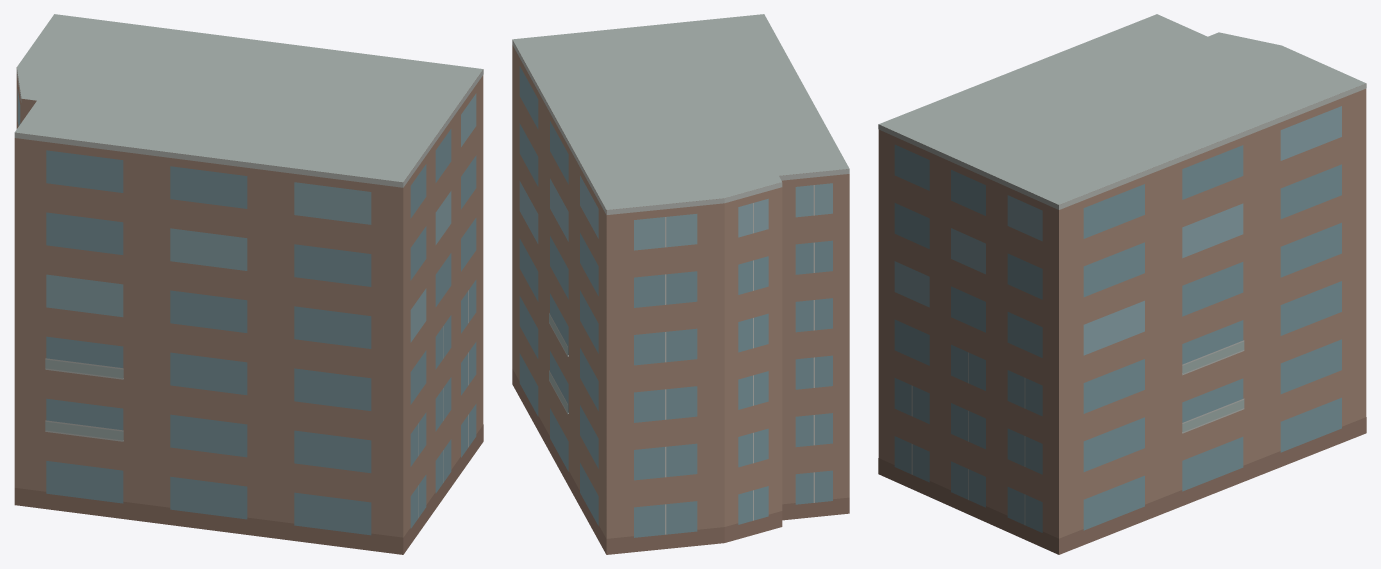
Rendered from survey-upis-33005482.glb.
3 views of the same model, side by side, from view 1: azimuth 30°, elevation 25°; view 2: azimuth 150°, elevation 25°; view 3: azimuth 270°, elevation 25° (orthographic). The views are drawn at different scales.
Parts seen in each view (by area): view 1: survey-upis-33005482.tmp; view 2: survey-upis-33005482.tmp; view 3: survey-upis-33005482.tmp.
Boxes of the visible parts, x1,y1,x2,y2 form: survey-upis-33005482.tmp: (14,14,483,554); survey-upis-33005482.tmp: (512,14,849,554); survey-upis-33005482.tmp: (878,14,1366,554).
Bounding box in the file's own units: 19.44 × 16.6 × 20.98.
